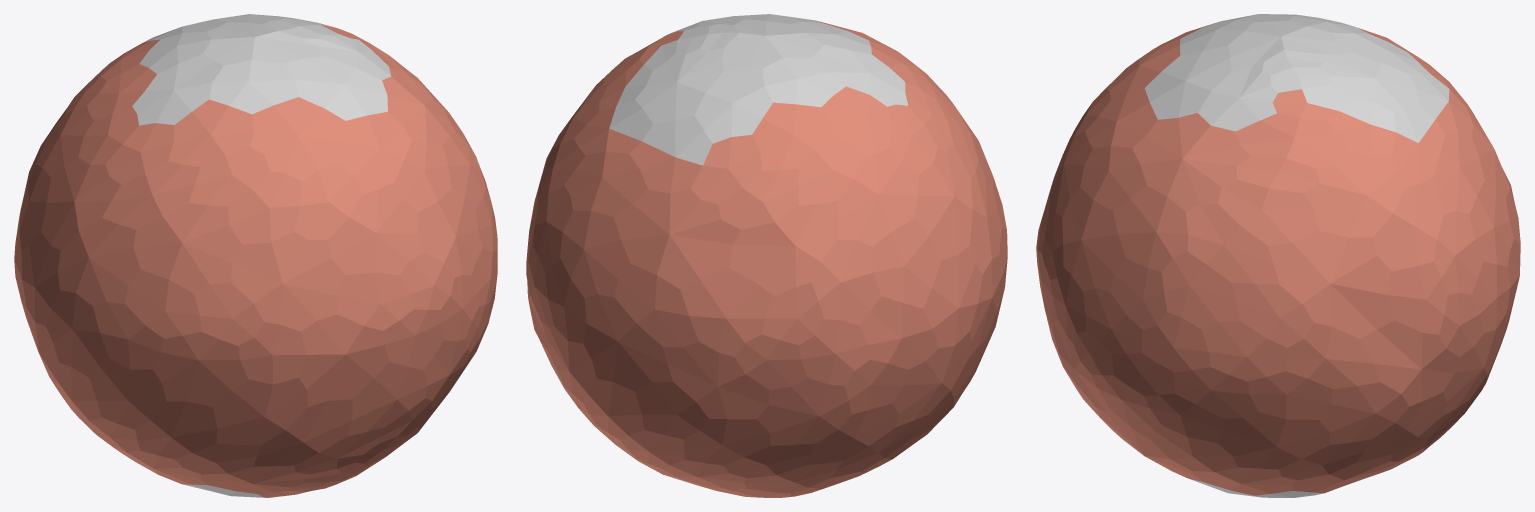
The model's file is Mars.fbx.
The picture shows the model from 3 angles, left to right: view 1: azimuth 30°, elevation 25°; view 2: azimuth 150°, elevation 25°; view 3: azimuth 270°, elevation 25°; orthographic projection.
Parts seen in each view (by area): view 1: Mars; view 2: Mars; view 3: Mars.
Boxes of the visible parts, x1,y1,x2,y2 form: Mars: (14, 14, 497, 497); Mars: (526, 14, 1007, 497); Mars: (1036, 14, 1520, 497).
Bounding box in the file's own units: 1.57 × 1.58 × 1.57.
